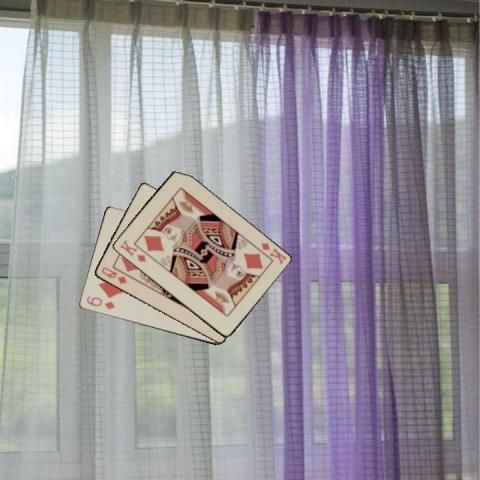6d: (83, 292, 116, 311)
Kd: (116, 237, 147, 263), (258, 240, 288, 266)
Qd: (98, 264, 128, 286)
